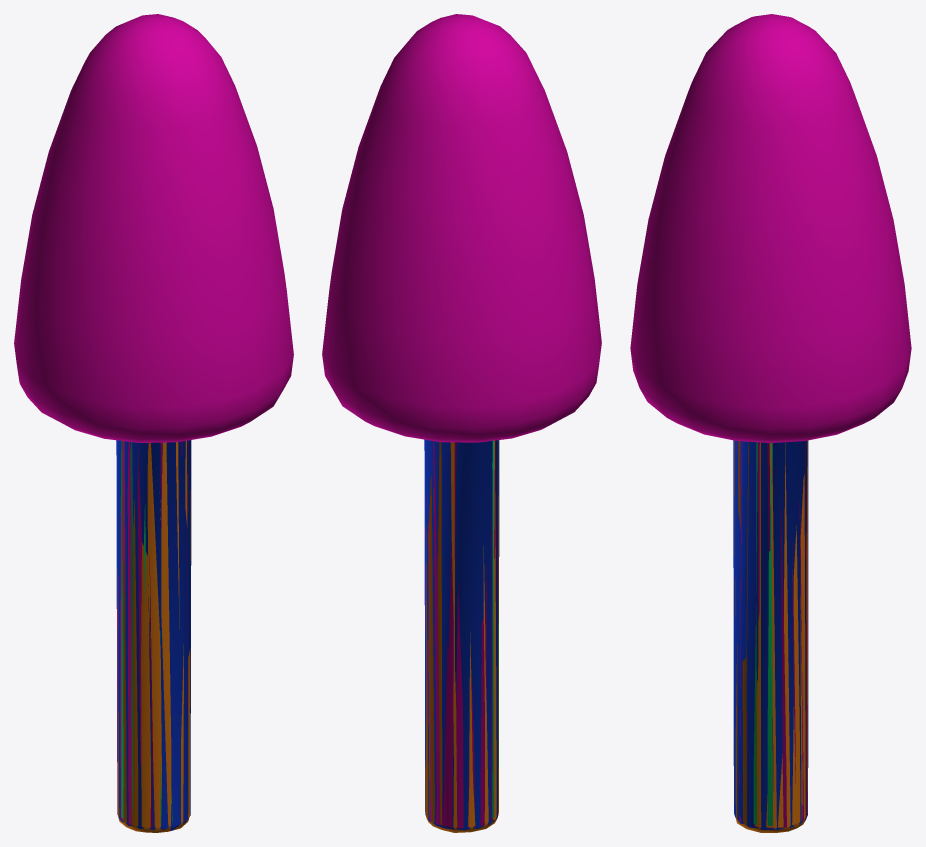
The model's file is Trees.fbx.
3 views of the same model, side by side, from view 1: azimuth 30°, elevation 25°; view 2: azimuth 150°, elevation 25°; view 3: azimuth 270°, elevation 25° (orthographic).
Parts seen in each view (by area): view 1: Tree2, Tree1, Tree3, Tree4; view 2: Tree2, Tree1, Tree3, Tree4; view 3: Tree2, Tree1, Tree3, Tree4.
Boxes of the visible parts, x1,y1,x2,y2 form: Tree2: (14, 14, 293, 828); Tree1: (116, 440, 191, 830); Tree3: (117, 440, 190, 832); Tree4: (121, 441, 172, 824); Tree2: (322, 14, 601, 828); Tree1: (424, 439, 499, 830); Tree3: (425, 440, 498, 832); Tree4: (433, 440, 498, 818); Tree2: (630, 14, 911, 828); Tree1: (733, 440, 808, 829); Tree3: (734, 440, 807, 832); Tree4: (753, 442, 772, 825).
Size of the model in its own units: 456 by 1431 by 456.
